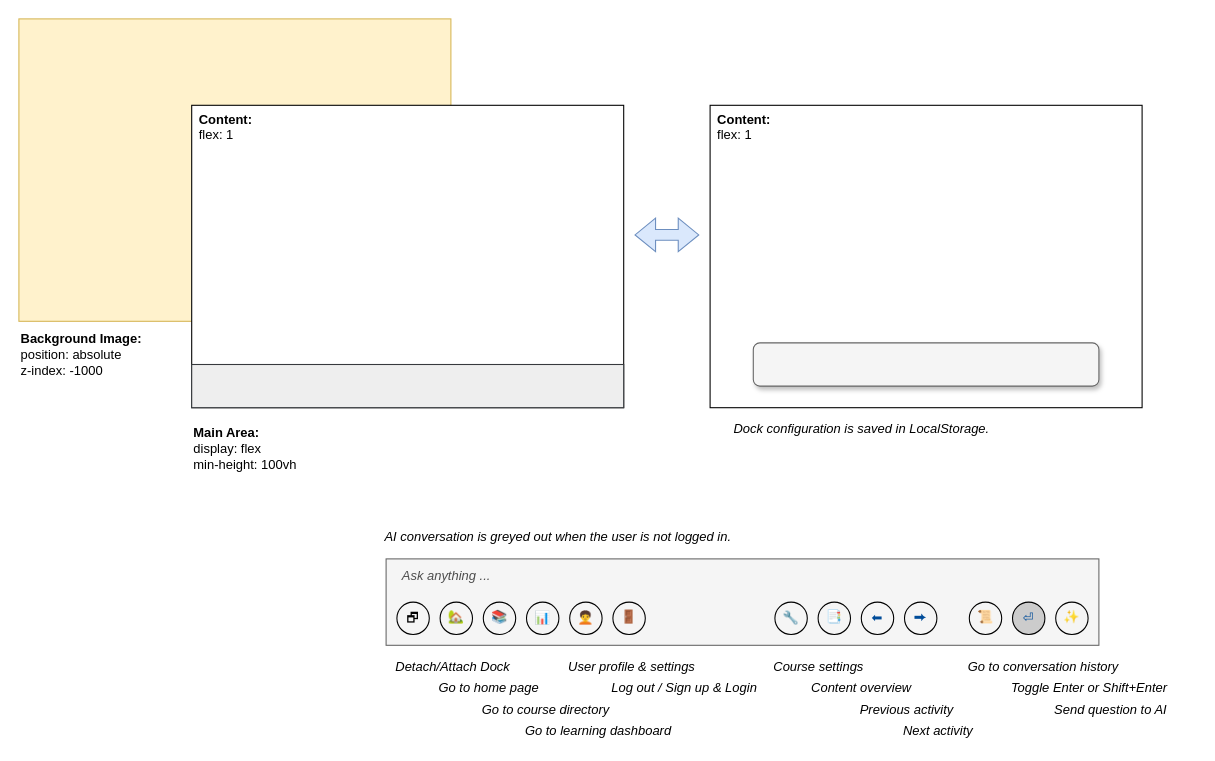
The diagram is 1215 pixels wide and 761 high, and some of its shapes have lost their labels. The centre of each missing label's shape, as x and y in pixels:
Dock (Attached): the point at 407,385
Dock (Floating) position: absolute: the point at 926,366
